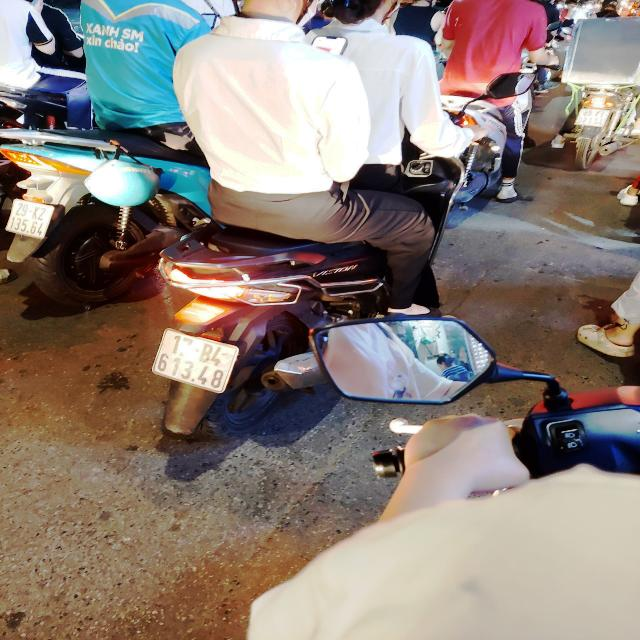license_plate: (144, 324, 248, 402), (2, 197, 62, 242)
